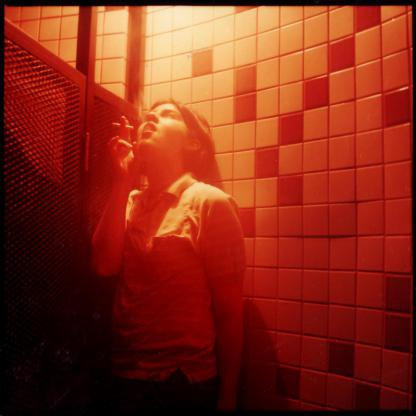smoking: (112, 123, 134, 129)
